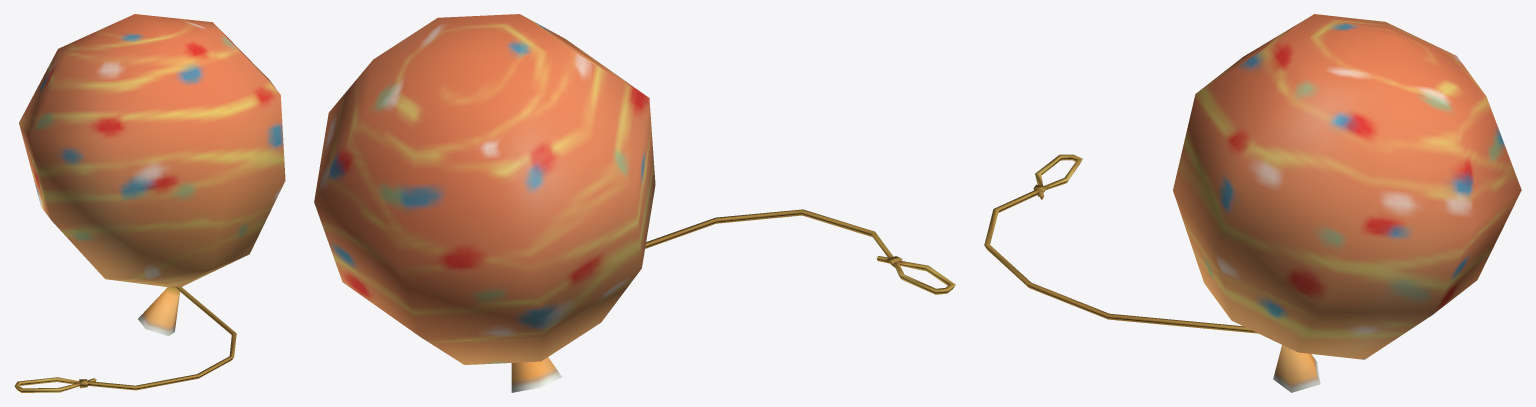
Rendered from jsf_WaterBalloon_01_c.fbx.
3 renders of one model, left to right at view 1: azimuth 30°, elevation 25°; view 2: azimuth 150°, elevation 25°; view 3: azimuth 270°, elevation 25°, orthographic. The views are drawn at different scales.
Visible parts, largest first — view 1: jsf_WaterBalloon_01_c; view 2: jsf_WaterBalloon_01_c; view 3: jsf_WaterBalloon_01_c.
Boxes of the visible parts, left/top/right/bottom form: jsf_WaterBalloon_01_c: left=14, top=14, right=285, bottom=392; jsf_WaterBalloon_01_c: left=314, top=14, right=955, bottom=392; jsf_WaterBalloon_01_c: left=984, top=14, right=1521, bottom=392.
Bounding box in the file's own units: 16.89 × 12.55 × 17.11.
